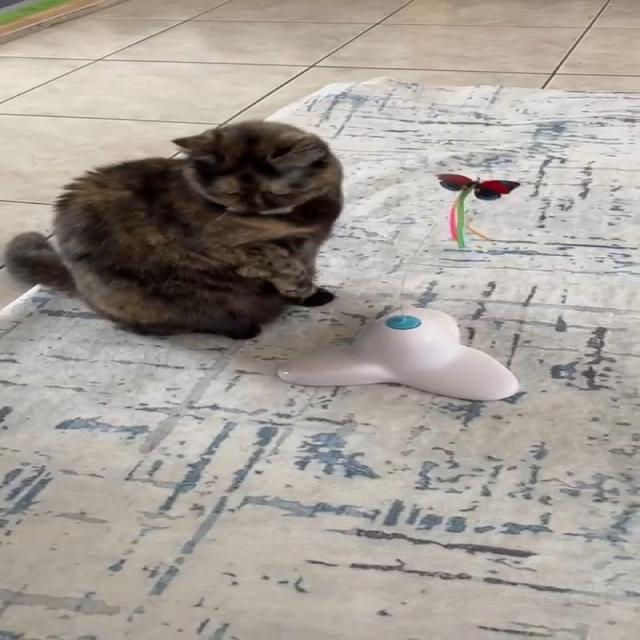authorized: (3, 118, 344, 340)
